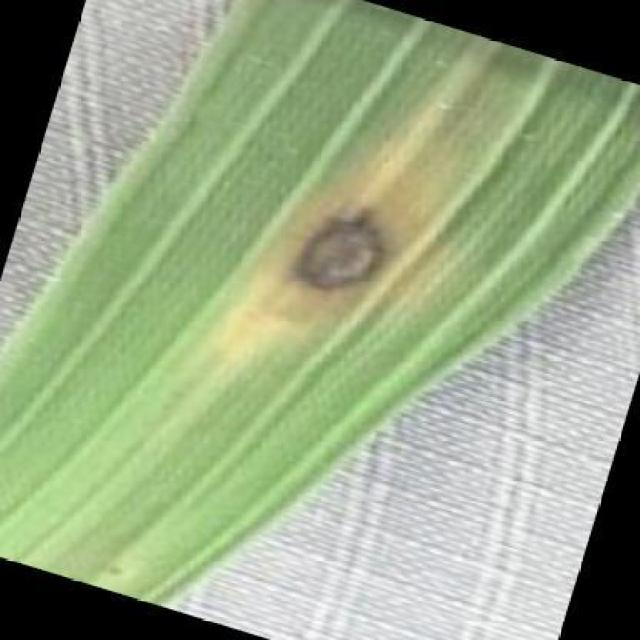Bacterial_Leaf_Blight: (226, 160, 448, 343)
Leaf_Blast: (423, 75, 483, 128), (83, 545, 143, 590)
